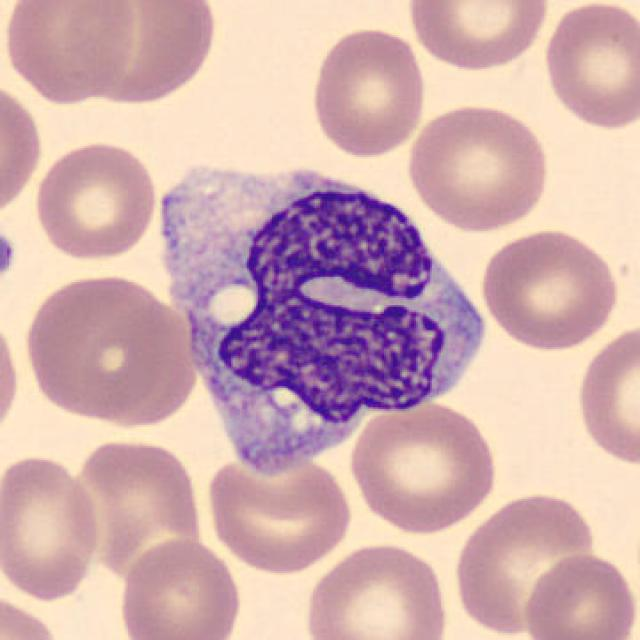Monocyte: (146, 144, 496, 480)
Platelets: (0, 229, 20, 284)
RBC: (20, 270, 188, 423), (450, 487, 604, 638), (347, 395, 501, 536), (66, 432, 206, 582), (201, 442, 355, 576), (403, 100, 553, 232), (55, 0, 222, 115), (478, 224, 622, 353), (307, 23, 428, 160), (0, 450, 105, 604), (30, 138, 160, 262), (300, 539, 451, 640), (0, 0, 140, 106), (116, 536, 246, 640), (539, 0, 638, 132), (403, 0, 553, 74), (519, 548, 638, 640), (572, 321, 640, 471), (0, 78, 46, 222), (0, 305, 25, 446), (0, 590, 66, 640)
